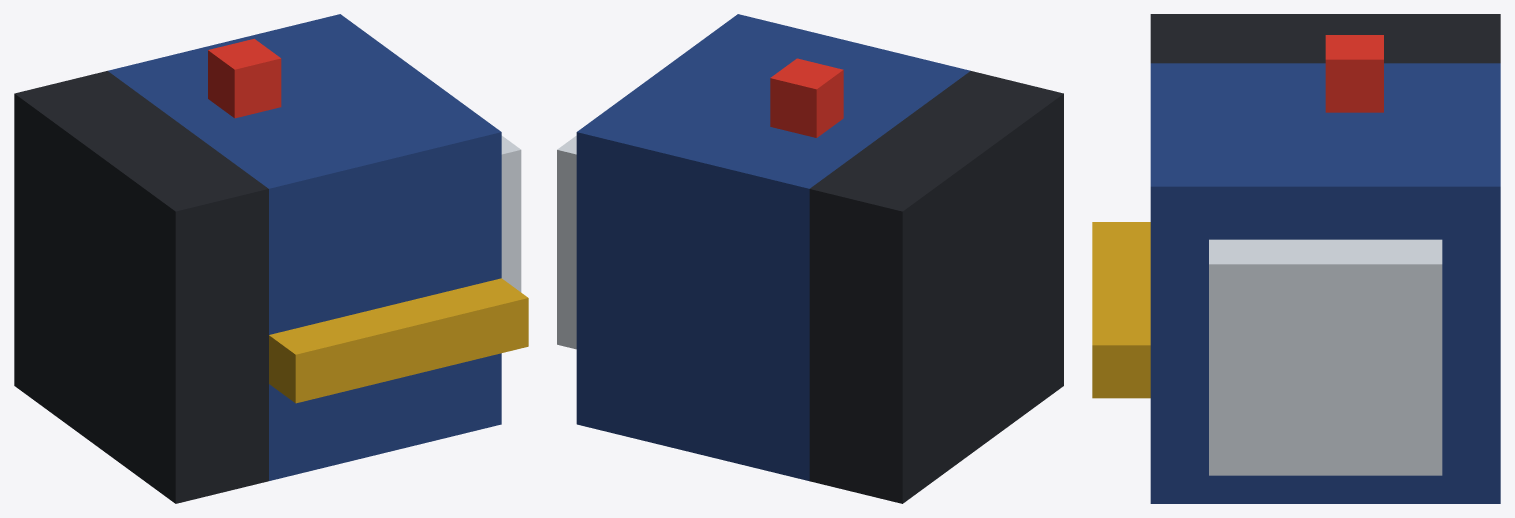
The model's file is item_book.glb.
The picture shows the model from 3 angles, left to right: view 1: azimuth 30°, elevation 25°; view 2: azimuth 150°, elevation 25°; view 3: azimuth 270°, elevation 25°; orthographic projection. The views are drawn at different scales.
Visible parts, largest first — view 1: Spine mesh, Cover mesh, Band mesh, Mark mesh, Pages mesh; view 2: Cover mesh, Spine mesh, Mark mesh, Pages mesh; view 3: Cover mesh, Pages mesh, Spine mesh, Band mesh, Mark mesh.
Part boxes in pixels (left/top/right/bottom): Spine mesh: left=14, top=71, right=268, bottom=503; Cover mesh: left=108, top=14, right=501, bottom=480; Band mesh: left=269, top=278, right=528, bottom=403; Mark mesh: left=208, top=38, right=281, bottom=118; Pages mesh: left=501, top=135, right=521, bottom=292; Cover mesh: left=576, top=14, right=970, bottom=481; Spine mesh: left=809, top=71, right=1063, bottom=503; Mark mesh: left=770, top=58, right=843, bottom=137; Pages mesh: left=557, top=135, right=576, bottom=349; Cover mesh: left=1150, top=63, right=1500, bottom=503; Pages mesh: left=1209, top=239, right=1442, bottom=475; Spine mesh: left=1150, top=14, right=1500, bottom=63; Band mesh: left=1092, top=222, right=1150, bottom=398; Mark mesh: left=1325, top=35, right=1383, bottom=112.
Bounding box in the file's own units: 8 × 7 × 7.
Materials: 1 (1 with a texture image).
